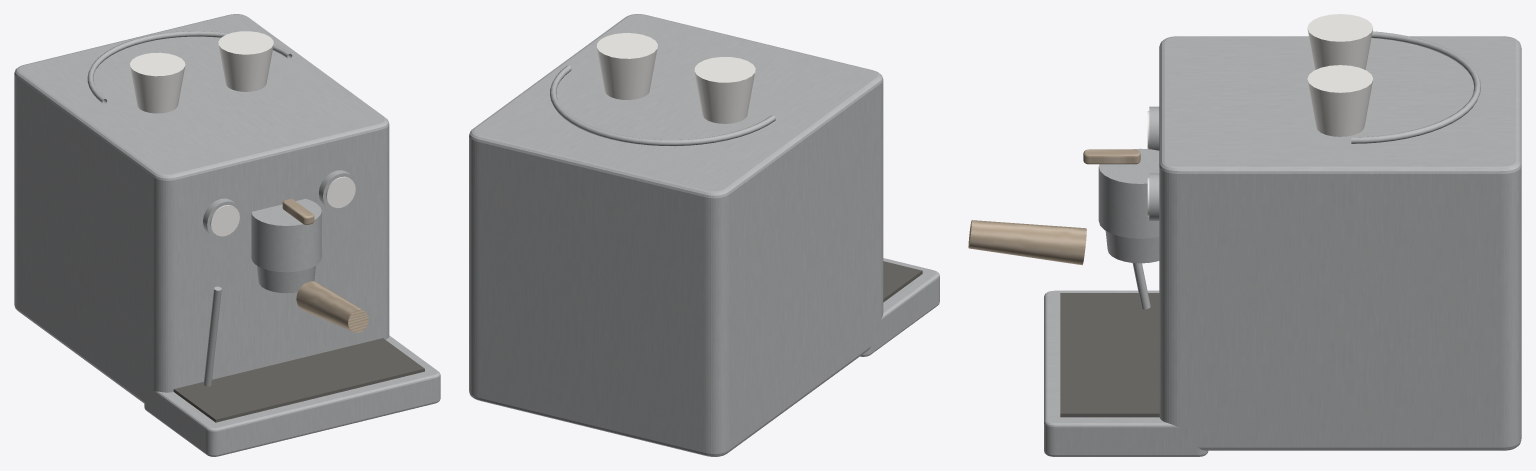
Rendered from kowhai-hero-kit-05.glb.
3 renders of one model, left to right at view 1: azimuth 30°, elevation 25°; view 2: azimuth 150°, elevation 25°; view 3: azimuth 270°, elevation 25°, orthographic. The views are drawn at different scales.
Parts seen in each view (by area): view 1: Espresso_BrushedSteelChassis, SubPart (×7), Espresso_DripTray, Espresso_SaturatedGroupHead, Espresso_PorcelainCup_2, Espresso_PorcelainCup_1, Espresso_AshPortafilterHandle, Espresso_CoolTouchSteamWand, Espresso_OtagoAshBrewPaddle; view 2: Espresso_BrushedSteelChassis, Espresso_PorcelainCup_1, Espresso_PorcelainCup_2, Espresso_DripTray, SubPart (×2); view 3: Espresso_BrushedSteelChassis, SubPart (×3), Espresso_DripTray, Espresso_SaturatedGroupHead, Espresso_AshPortafilterHandle, Espresso_PorcelainCup_2, Espresso_PorcelainCup_1, Espresso_OtagoAshBrewPaddle.
Boxes of the visible parts, <box> form: Espresso_BrushedSteelChassis: <box>14,14,389,403</box>; SubPart (×7): <box>87,31,424,422</box>; Espresso_DripTray: <box>144,335,440,456</box>; Espresso_SaturatedGroupHead: <box>251,198,321,272</box>; Espresso_PorcelainCup_2: <box>218,31,273,91</box>; Espresso_PorcelainCup_1: <box>130,52,185,113</box>; Espresso_AshPortafilterHandle: <box>296,281,368,332</box>; Espresso_CoolTouchSteamWand: <box>203,286,221,386</box>; Espresso_OtagoAshBrewPaddle: <box>282,199,314,224</box>; Espresso_BrushedSteelChassis: <box>469,14,883,456</box>; Espresso_PorcelainCup_1: <box>694,57,755,123</box>; Espresso_PorcelainCup_2: <box>596,33,657,99</box>; Espresso_DripTray: <box>860,258,939,356</box>; SubPart (×2): <box>550,65,922,302</box>; Espresso_BrushedSteelChassis: <box>1159,36,1521,450</box>; SubPart (×3): <box>1060,31,1480,417</box>; Espresso_DripTray: <box>1044,290,1208,456</box>; Espresso_SaturatedGroupHead: <box>1098,148,1159,238</box>; Espresso_AshPortafilterHandle: <box>968,220,1086,265</box>; Espresso_PorcelainCup_2: <box>1307,65,1373,136</box>; Espresso_PorcelainCup_1: <box>1307,14,1373,69</box>; Espresso_OtagoAshBrewPaddle: <box>1083,149,1140,164</box>.
Bounding box in the file's own units: 0.29 × 0.339 × 0.5037.
4 materials, 2 textured.
